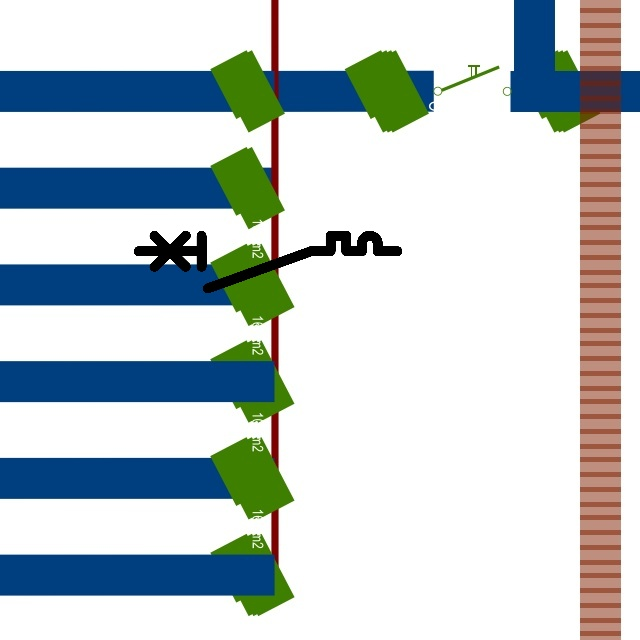interruptor_termomagnetico: (132, 229, 404, 295)
